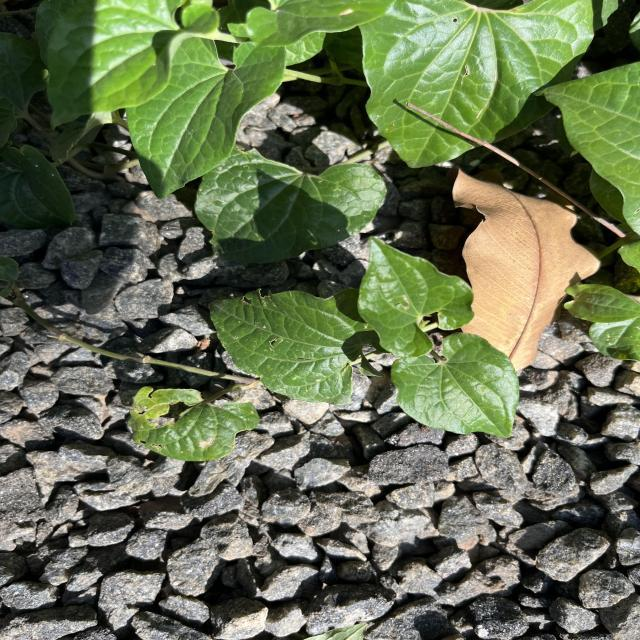Piper longum: (387, 330, 521, 440)
